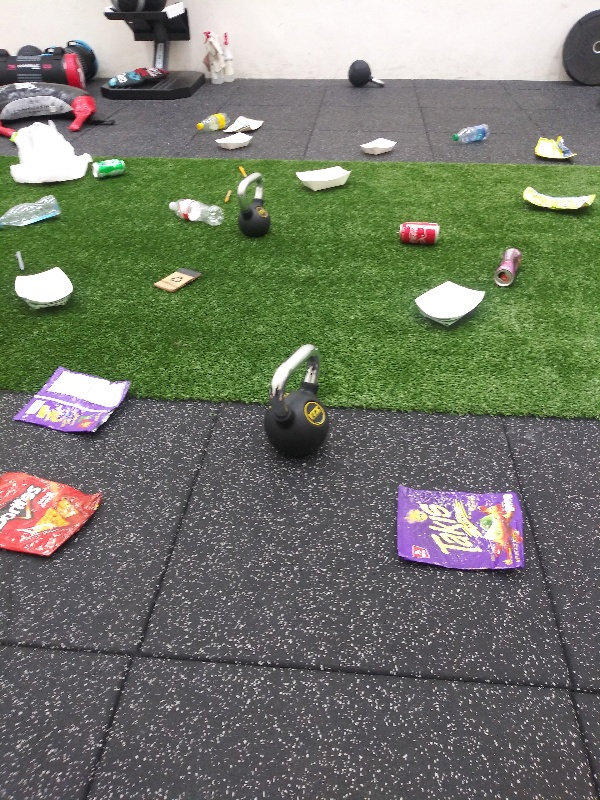bag: (394, 481, 531, 575), (1, 471, 110, 565), (8, 366, 131, 436), (521, 183, 600, 213), (531, 133, 580, 163), (222, 111, 267, 133)
bottle: (1, 192, 63, 232), (165, 197, 231, 231), (449, 121, 493, 148), (196, 109, 229, 135)
can: (492, 244, 528, 292), (394, 217, 443, 247), (91, 154, 129, 181)
plate: (408, 278, 488, 330), (10, 265, 74, 314), (291, 163, 355, 192), (354, 135, 400, 158), (211, 131, 256, 153)
